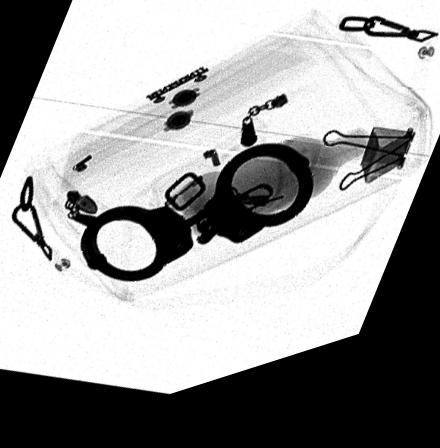HandCuffs: (63, 159, 314, 288)
